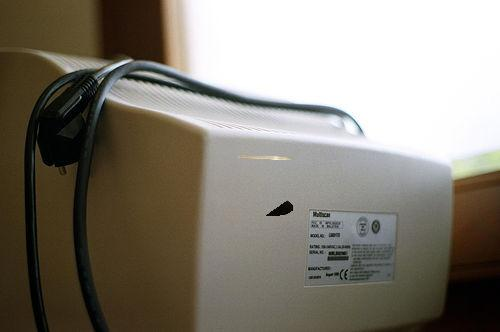tampered: (239, 156, 293, 216)
